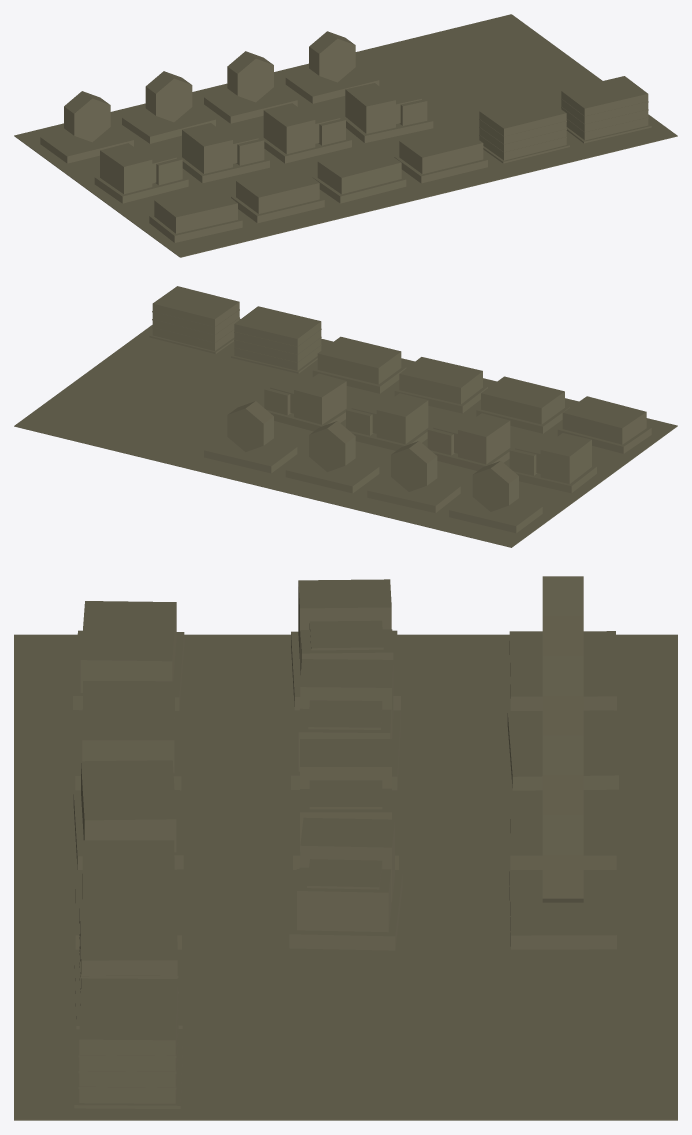
File: SM_AcopioMateriales_v4_Quemado_LOD1.fbx
3 renders of one model, top to bottom at view 1: azimuth 30°, elevation 25°; view 2: azimuth 150°, elevation 25°; view 3: azimuth 270°, elevation 25°, orthographic. The views are drawn at different scales.
Visible parts, largest first — view 1: SM_acopio_carga_v14_LOD1; view 2: SM_acopio_carga_v14_LOD1; view 3: SM_acopio_carga_v14_LOD1.
Boxes of the visible parts, x1=… form: SM_acopio_carga_v14_LOD1: x1=14, y1=14, x2=677, y2=257; SM_acopio_carga_v14_LOD1: x1=14, y1=286, x2=677, y2=547; SM_acopio_carga_v14_LOD1: x1=14, y1=576, x2=677, y2=1120.
Bounding box in the file's own units: 9.5 × 0.94 × 5.5.
